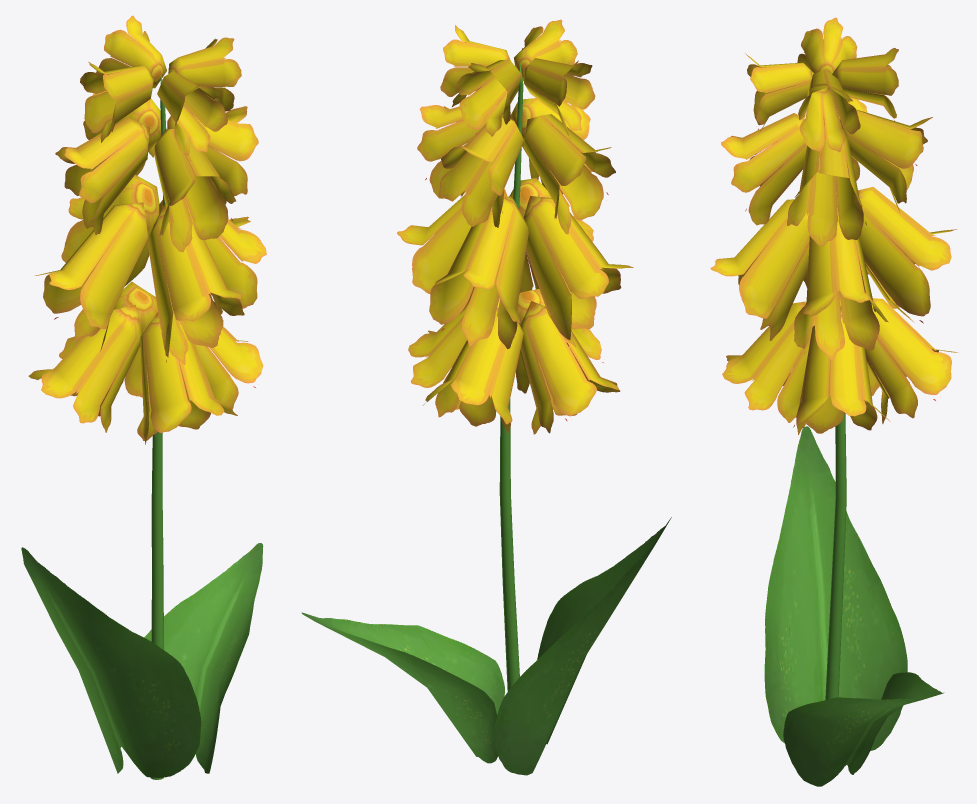
Rendered from Flower_4_Single.gltf.
The picture shows the model from 3 angles, left to right: view 1: azimuth 30°, elevation 25°; view 2: azimuth 150°, elevation 25°; view 3: azimuth 270°, elevation 25°; orthographic projection.
Parts seen in each view (by area): view 1: Flower_4_Single; view 2: Flower_4_Single; view 3: Flower_4_Single.
Boxes of the visible parts, <box> form: Flower_4_Single: <box>21,15,266,779</box>; Flower_4_Single: <box>301,19,671,775</box>; Flower_4_Single: <box>710,17,958,786</box>.
Bounding box in the file's own units: 1.07 × 2.42 × 0.7729.
Materials: 2 (2 with a texture image).
